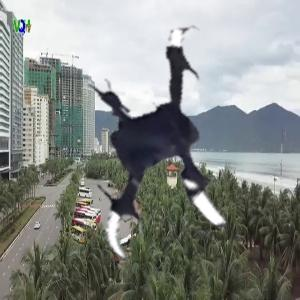drone: (49, 29, 297, 277)
